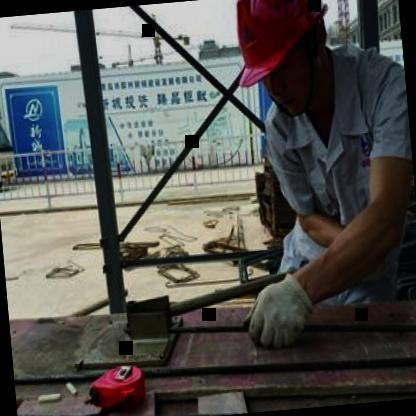helmet: (219, 0, 343, 128)
